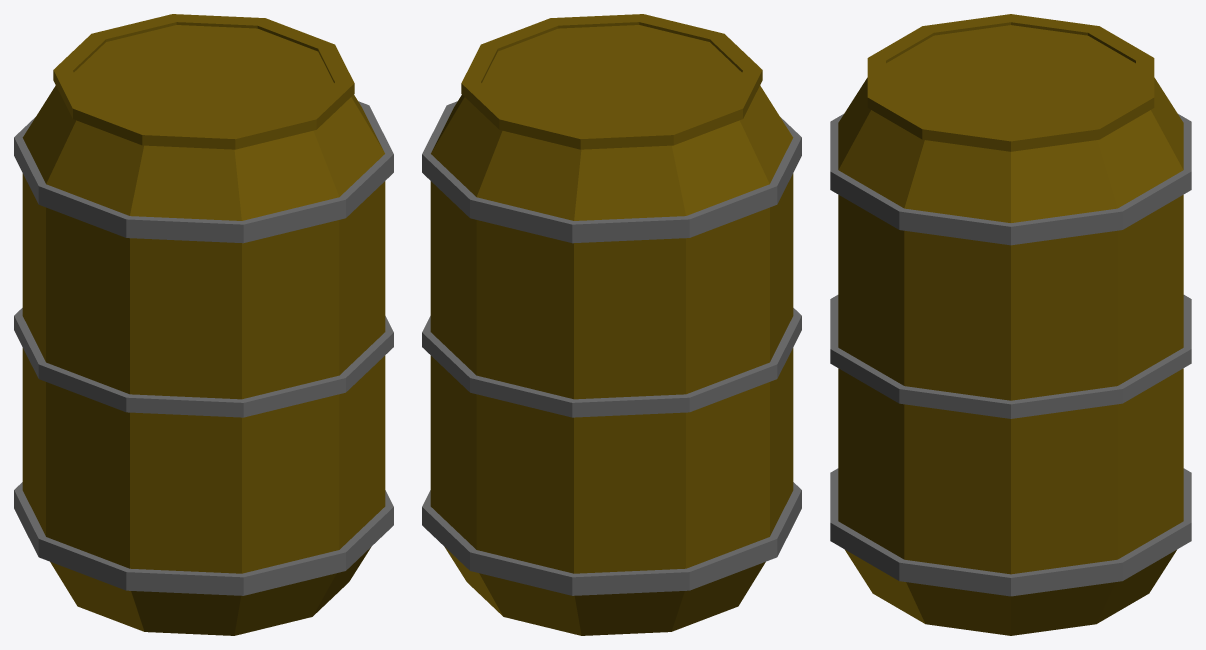
File: WoodenBarrel.fbx
The picture shows the model from 3 angles, left to right: view 1: azimuth 30°, elevation 25°; view 2: azimuth 150°, elevation 25°; view 3: azimuth 270°, elevation 25°; orthographic projection.
Visible parts, largest first — view 1: pCylinder1; view 2: pCylinder1; view 3: pCylinder1.
Part boxes in pixels (box(x1,y1,x2,y2)): pCylinder1: box(14, 14, 393, 635); pCylinder1: box(422, 14, 801, 635); pCylinder1: box(830, 14, 1191, 635).
Bounding box in the file's own units: 46.41 × 66.92 × 44.14.
